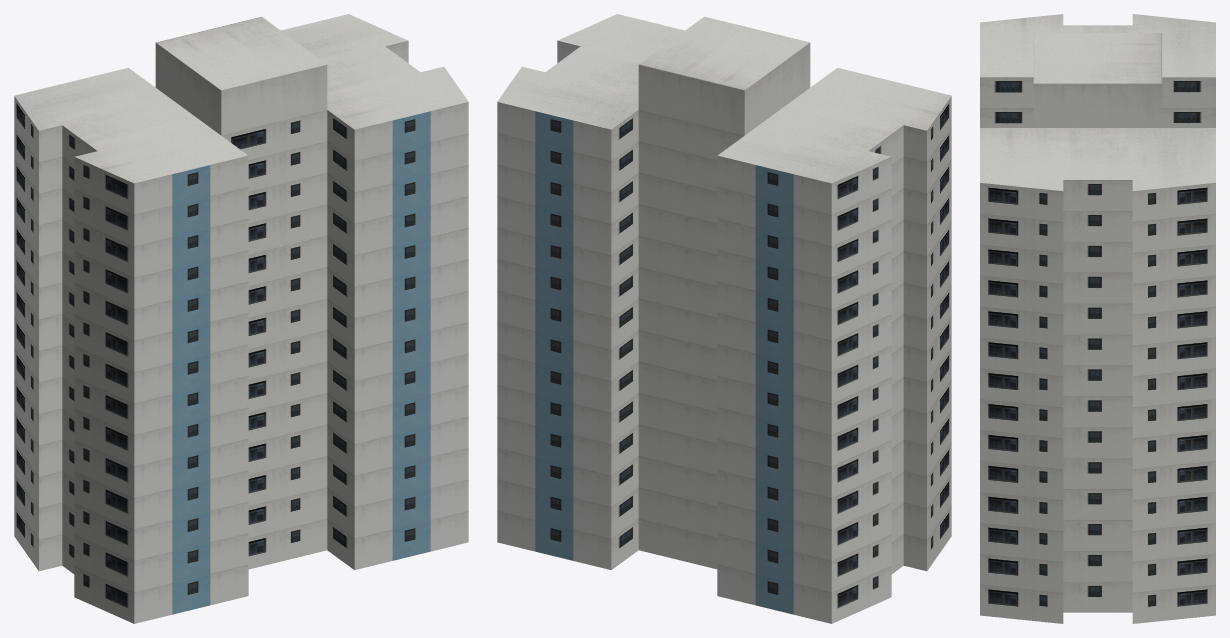
The model's file is Building-04.fbx.
3 views of the same model, side by side, from view 1: azimuth 30°, elevation 25°; view 2: azimuth 150°, elevation 25°; view 3: azimuth 270°, elevation 25° (orthographic).
Parts seen in each view (by area): view 1: Building-04; view 2: Building-04; view 3: Building-04.
Boxes of the visible parts, x1=… form: Building-04: x1=14, y1=14, x2=468, y2=623; Building-04: x1=497, y1=14, x2=951, y2=623; Building-04: x1=980, y1=14, x2=1215, y2=623.
Bounding box in the file's own units: 3903 × 4899 × 2195.
